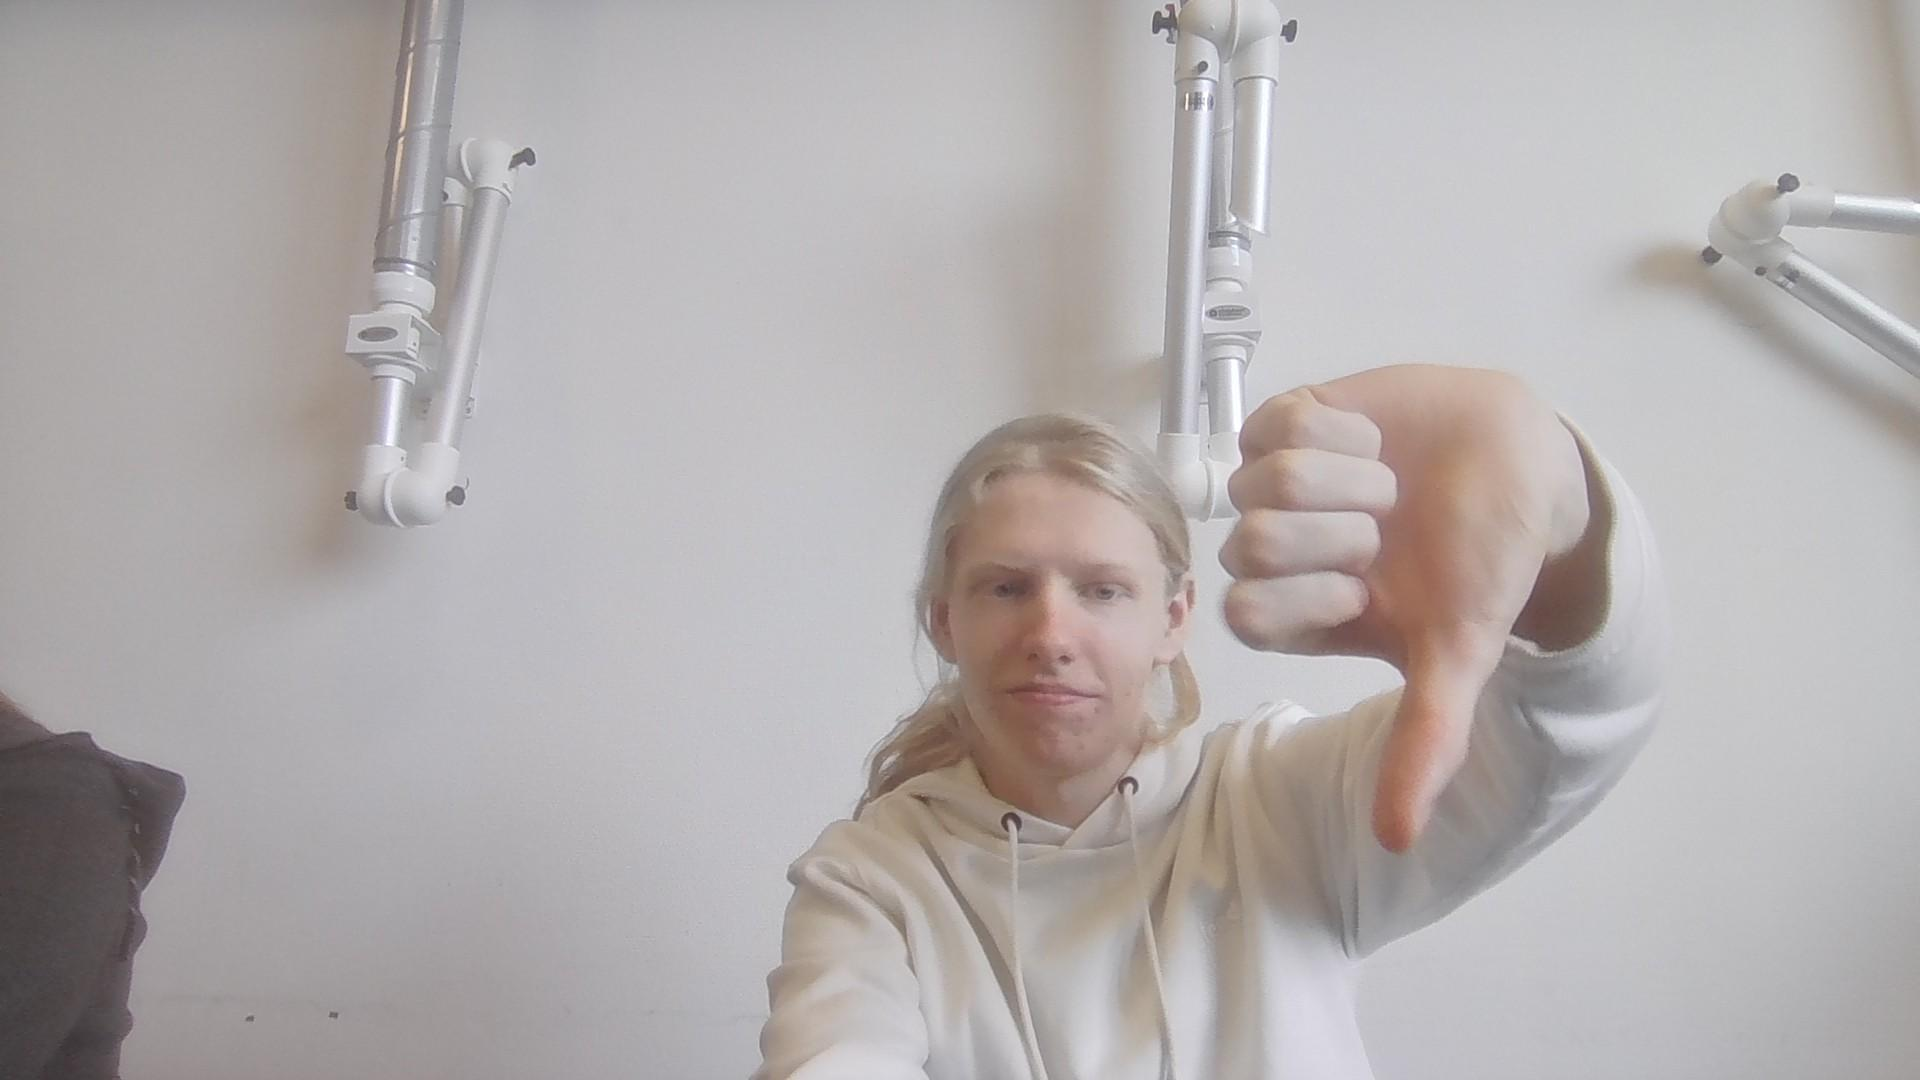thumbs down: (1236, 340, 1577, 847)
